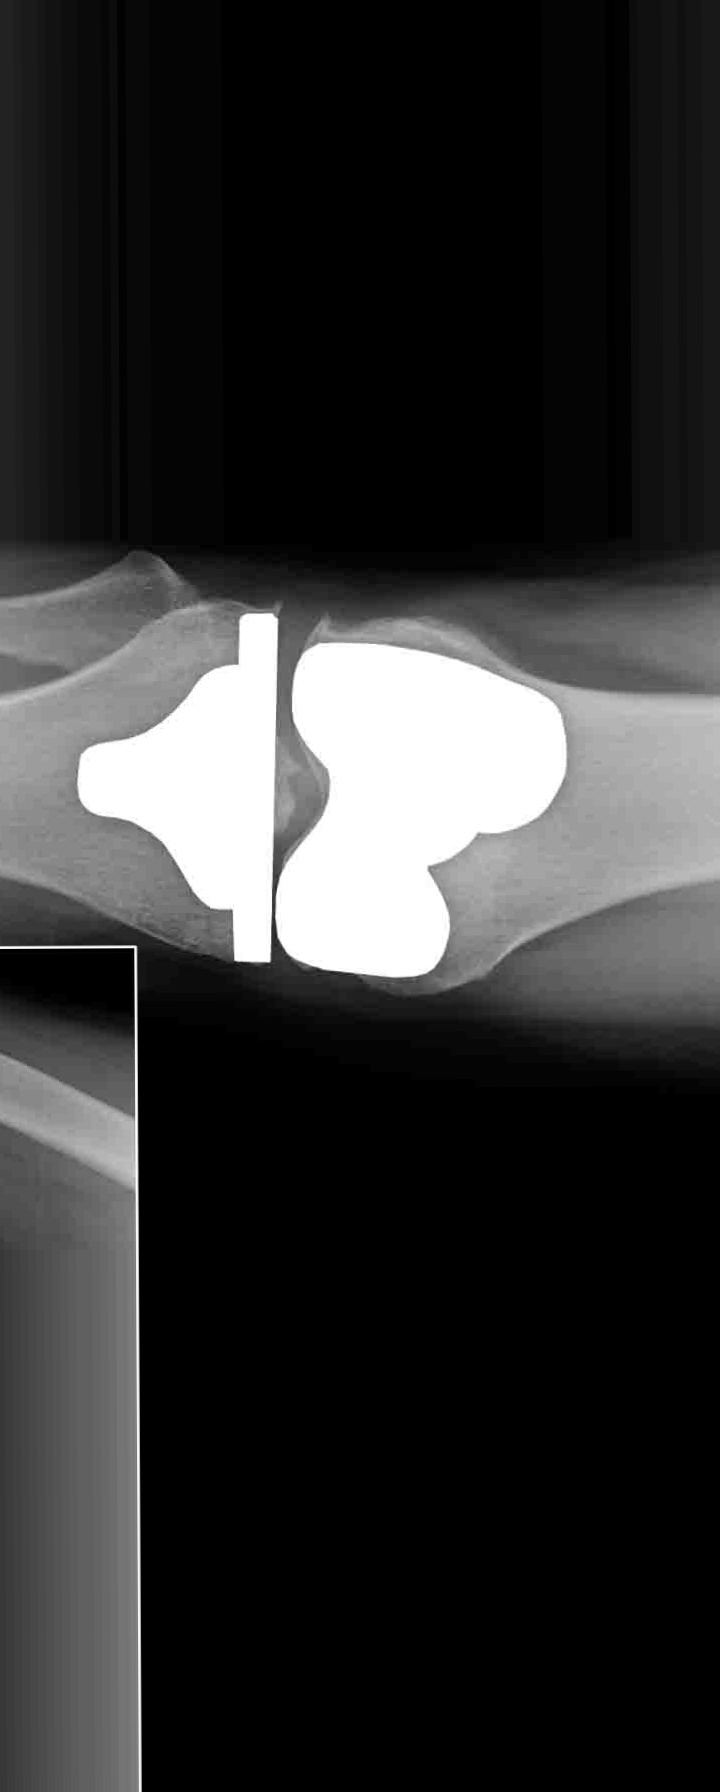Knee-TriathlonTritanium-Stryker: (72, 603, 577, 987)
